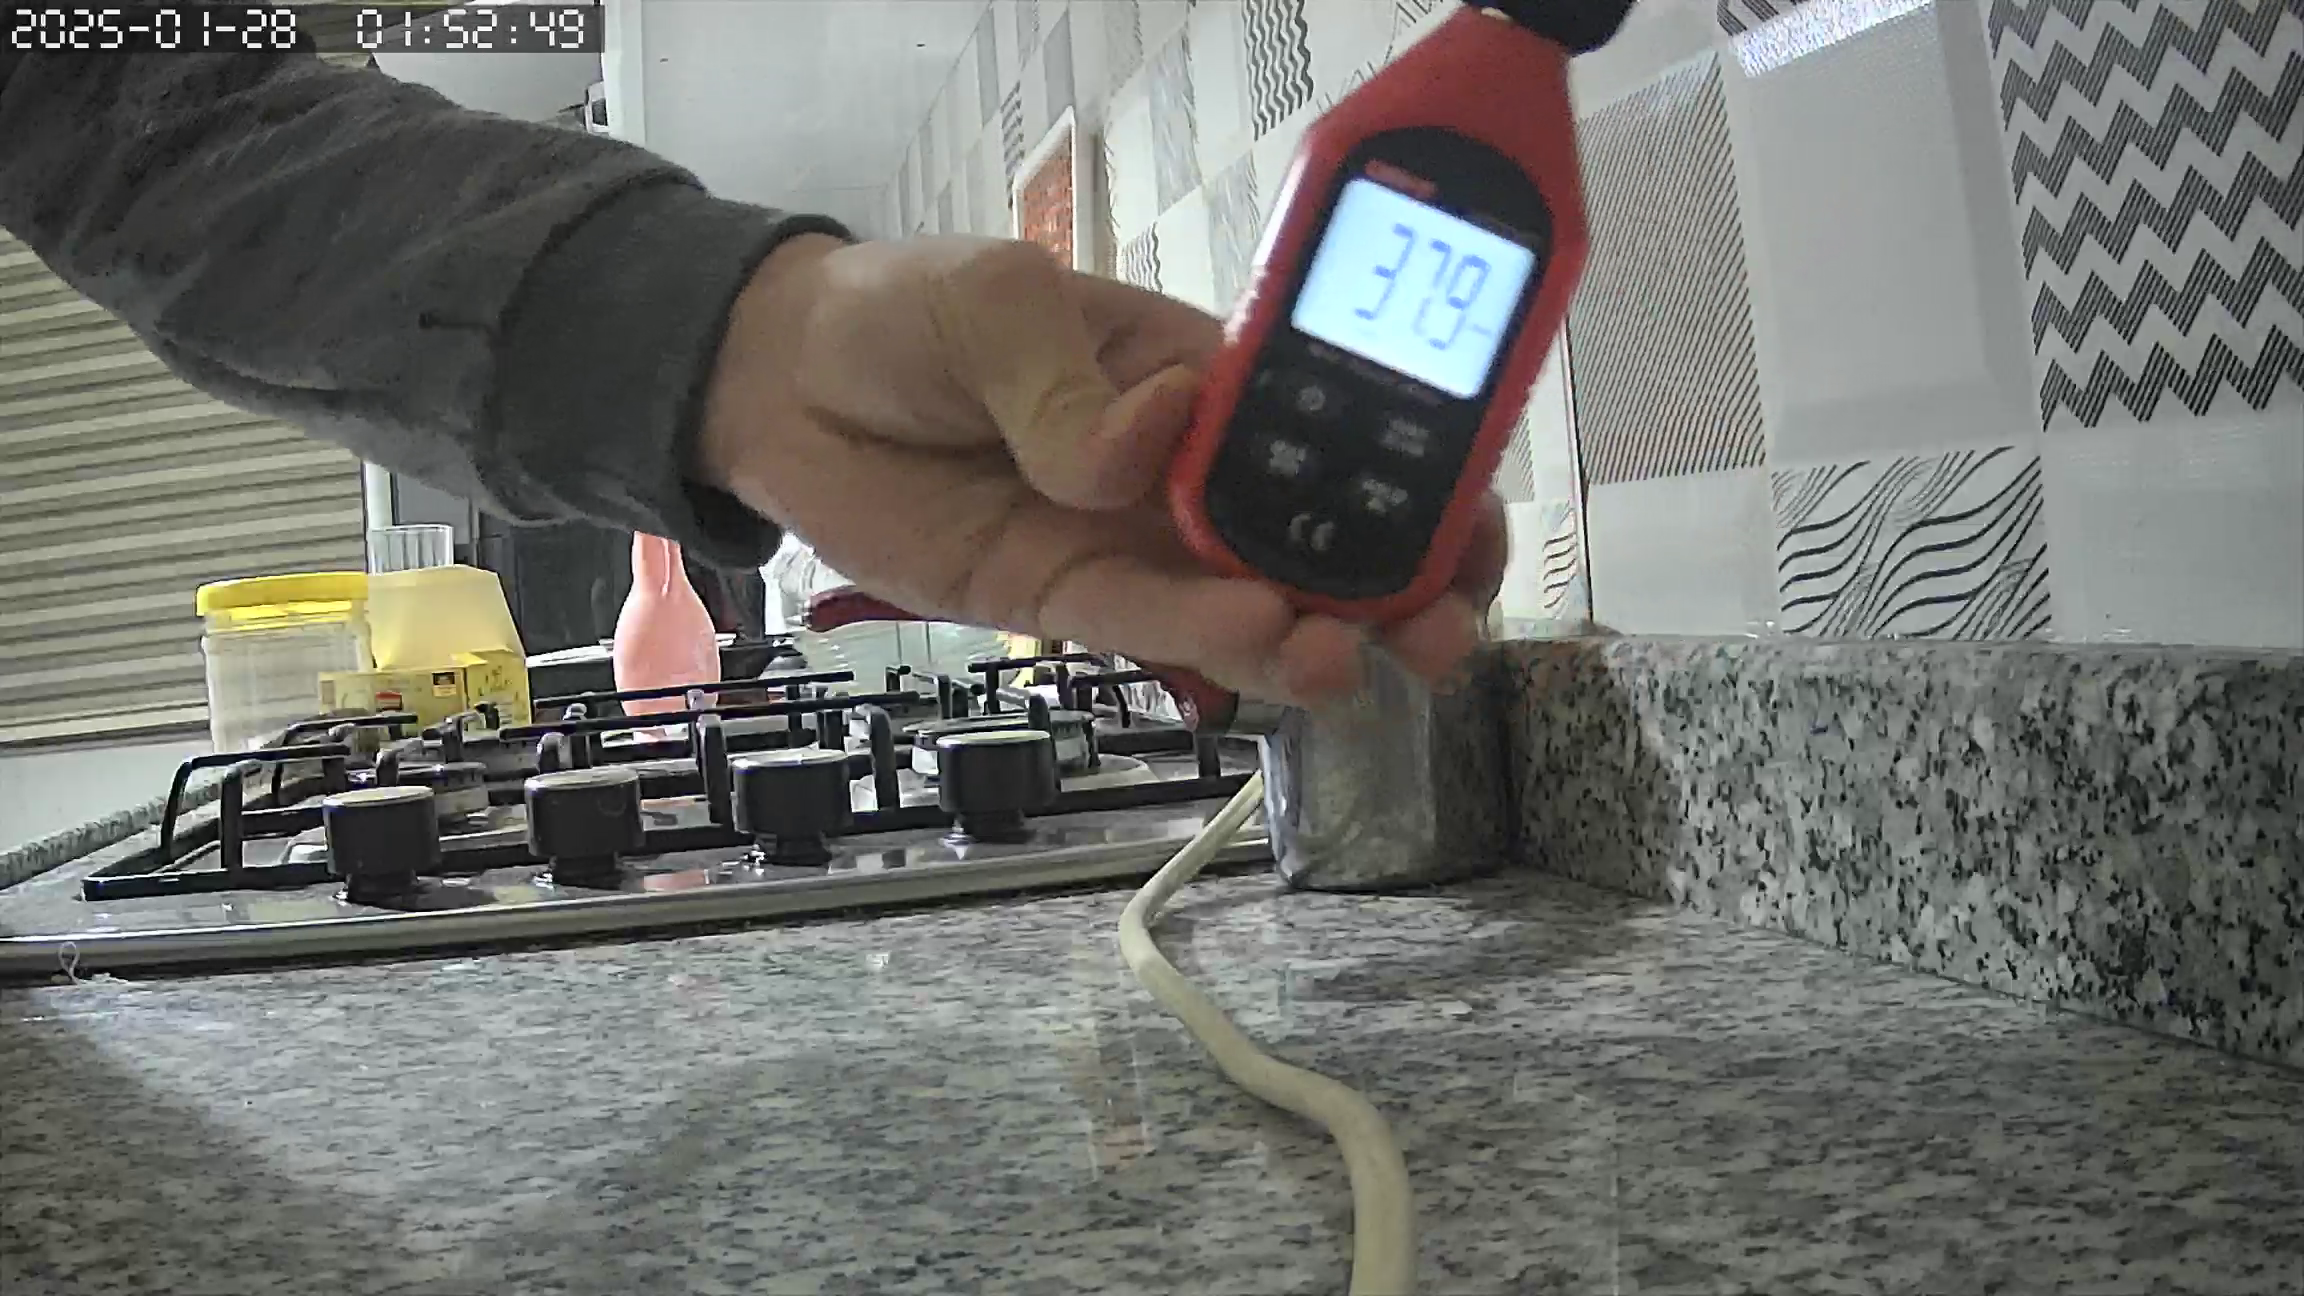screen: (1290, 176, 1535, 400)
